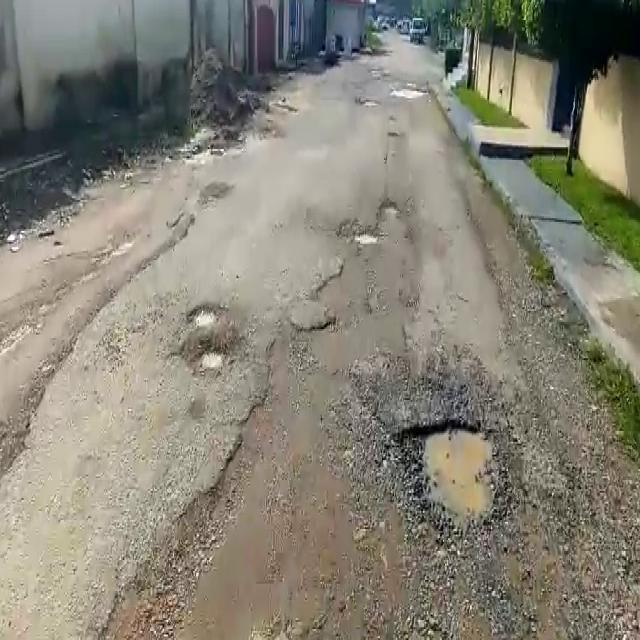pothole: (395, 425, 497, 544), (187, 303, 220, 331), (198, 350, 225, 372), (354, 231, 379, 248), (379, 199, 401, 216)
